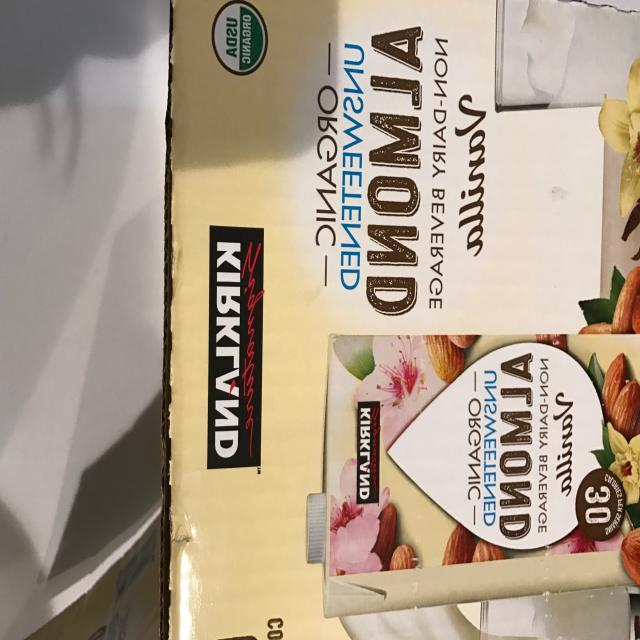cardboard: (163, 0, 640, 639)
